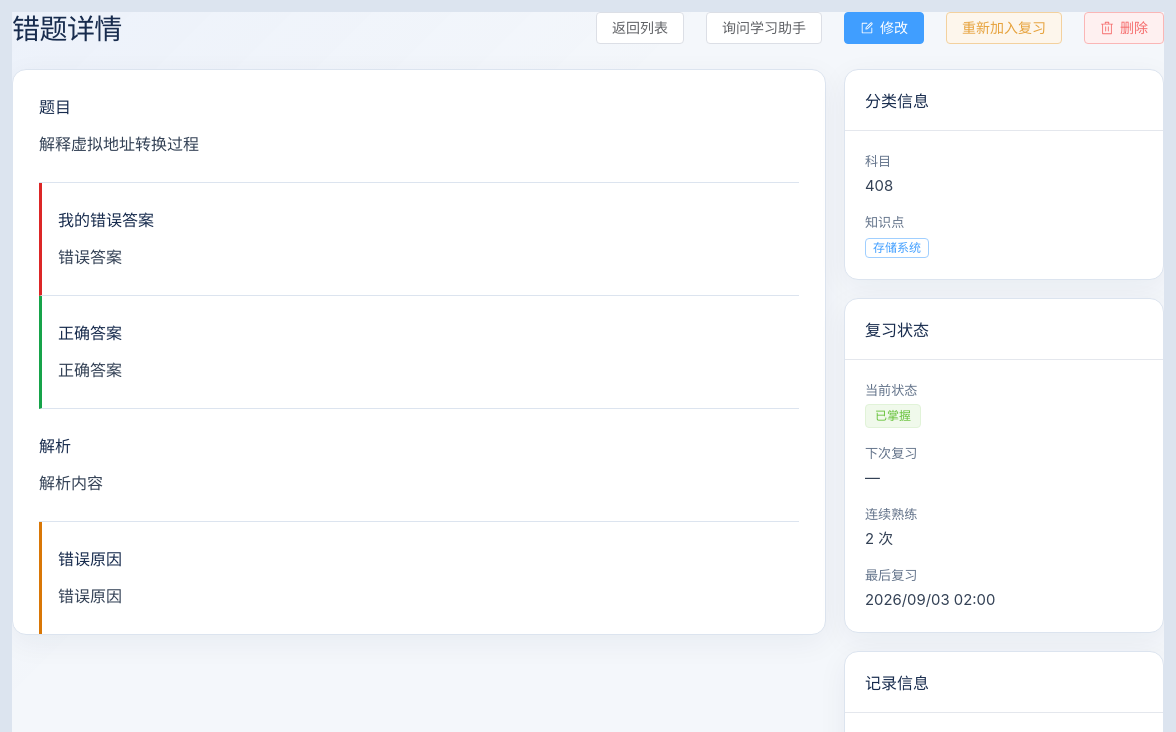
it: QuestionDetailView reactivation › shows a 409 message and reloads the detail from the server
Click the button with test id "reactivate-question".
click(1004, 28)  # box [946,12,1062,44]
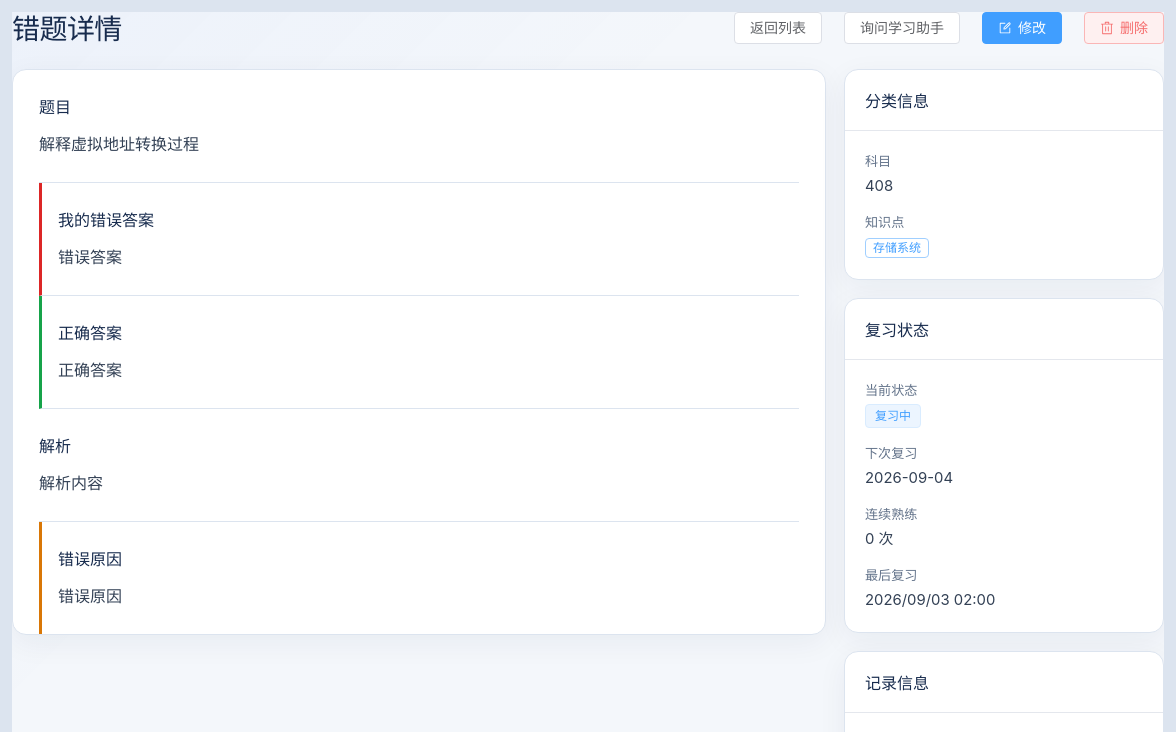
Result: the text "复习中" is shown at [875,410,911,422]
